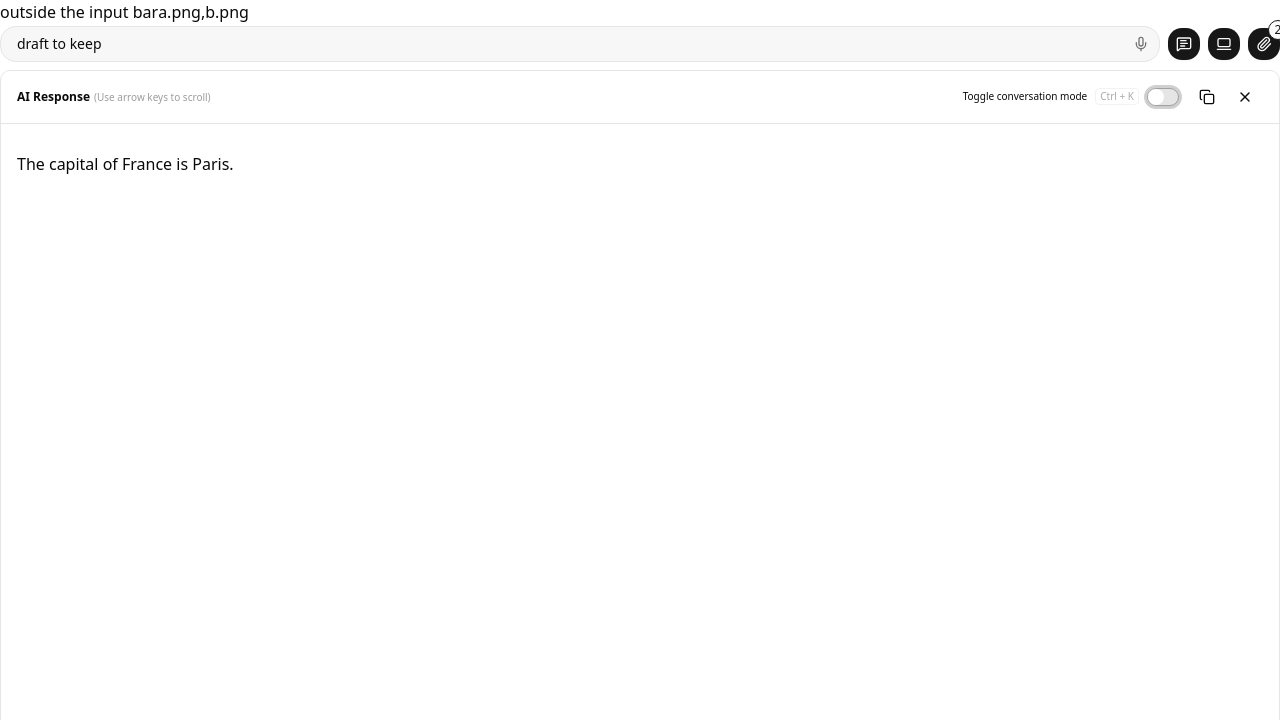
it: Screenshot combinations › existing attachments stay, in order, as more screenshots are added
Click the button named "Screenshot mode".
click(1224, 44)  # box top-left (1208, 28), bottom-right (1240, 60)
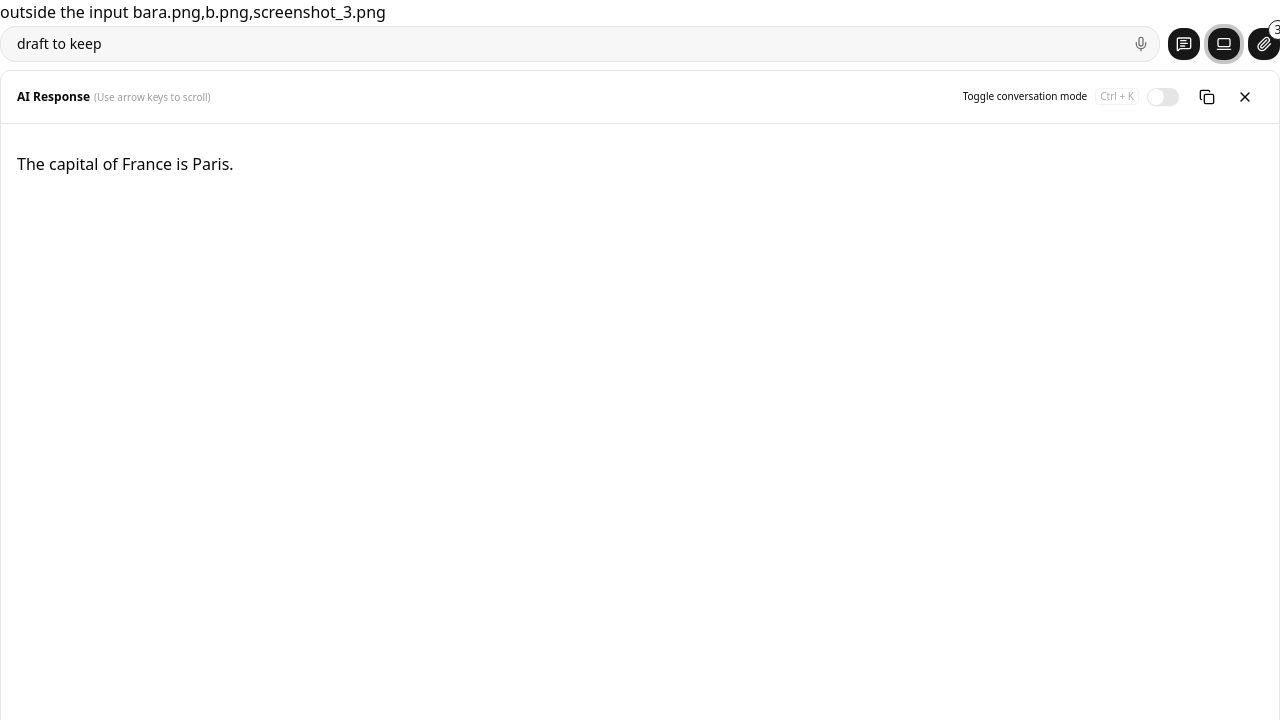
Click the button named "Screenshot mode".
click(1224, 44)  # box top-left (1208, 28), bottom-right (1240, 60)
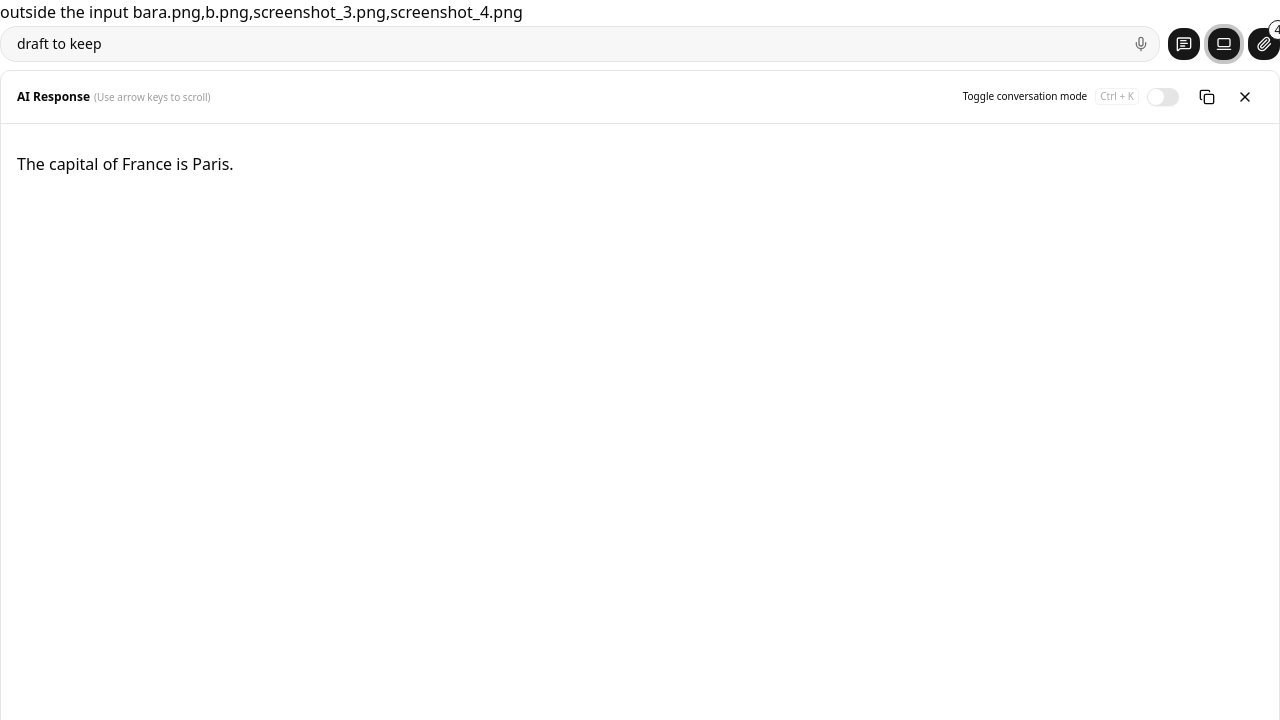
Check: the text with test id "attachments" reads "a.png,b.png,screenshot_3.png,screenshot_4.png", box top-left (158, 1), bottom-right (523, 23)
